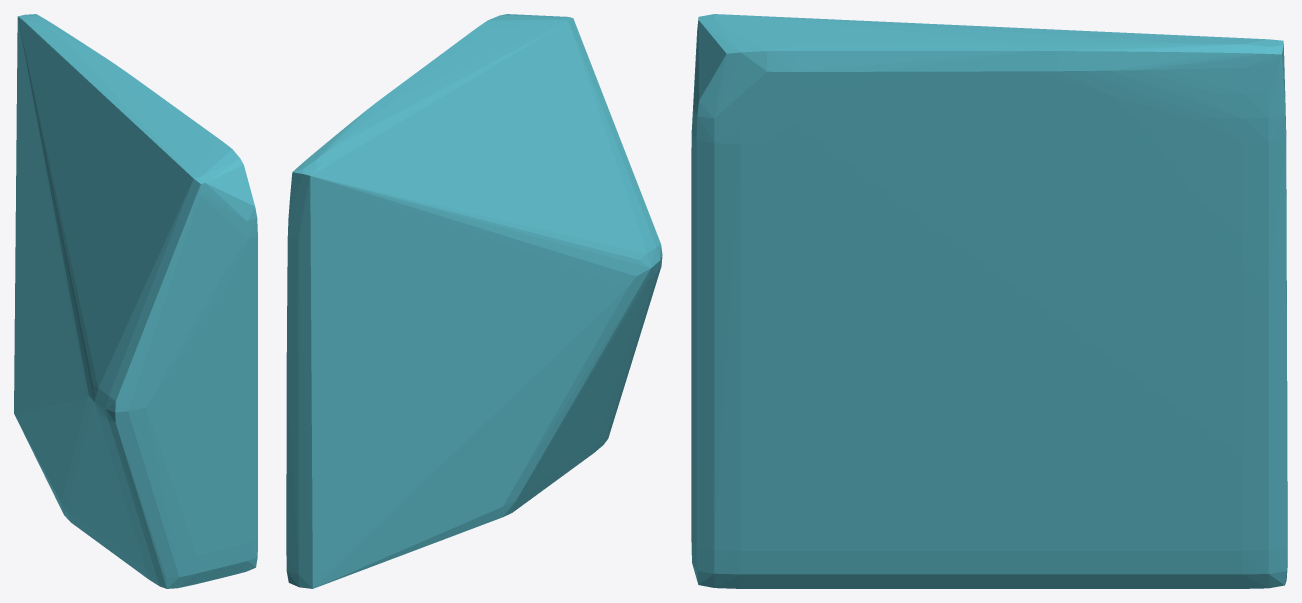
3 renders of one model, left to right at view 1: azimuth 30°, elevation 25°; view 2: azimuth 150°, elevation 25°; view 3: azimuth 270°, elevation 25°, orthographic. The views are drawn at different scales.
Size of the model in its own units: 0.0184 by 0.0467 by 0.0463.
